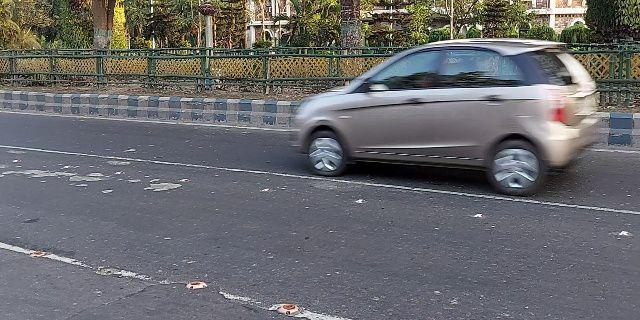Car: (286, 37, 604, 199)
